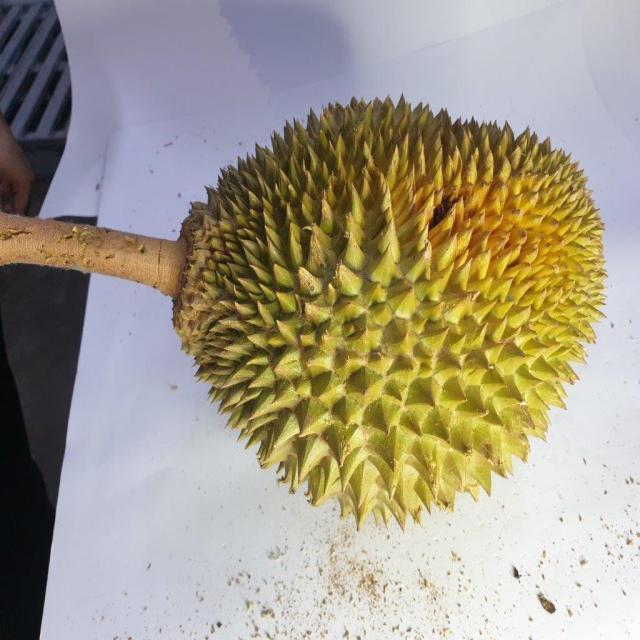defective: (163, 86, 608, 528)
